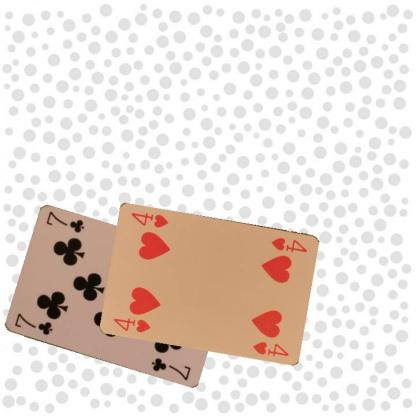4h: (268, 235, 309, 254), (111, 315, 152, 334)
7c: (12, 311, 53, 337)
